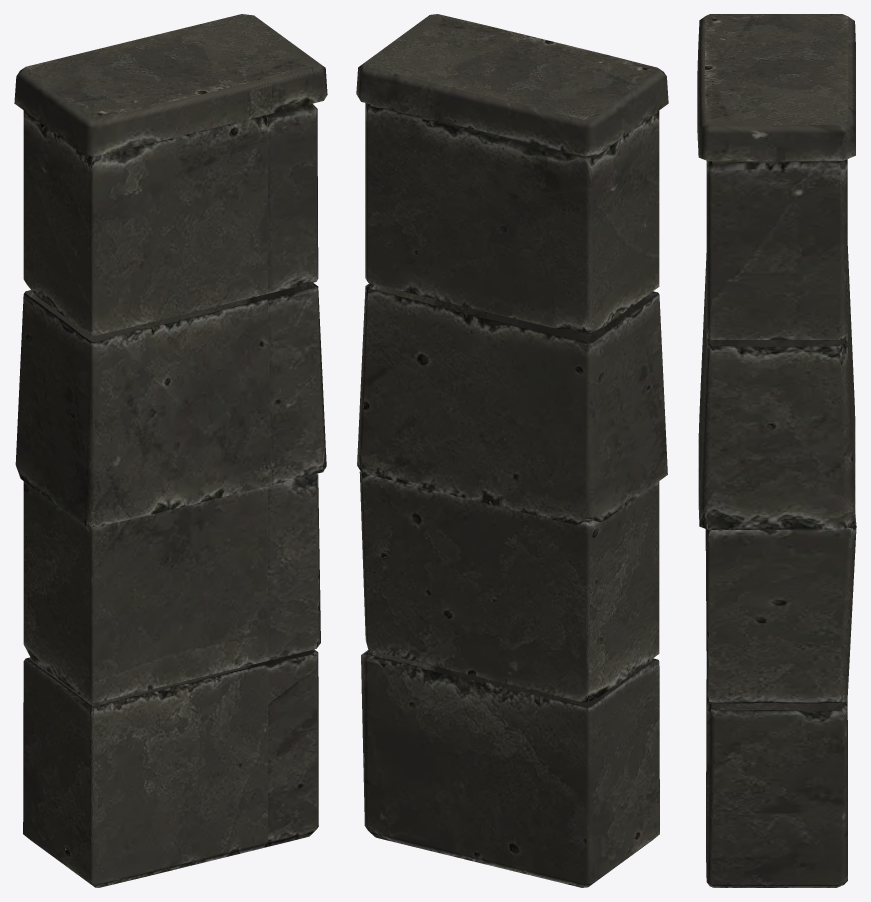
The picture shows the model from 3 angles, left to right: view 1: azimuth 30°, elevation 25°; view 2: azimuth 150°, elevation 25°; view 3: azimuth 270°, elevation 25°; orthographic projection.
Visible parts, largest first — view 1: SM_Greathall_WallEnd_6m_LOD0; view 2: SM_Greathall_WallEnd_6m_LOD0; view 3: SM_Greathall_WallEnd_6m_LOD0.
Part boxes in pixels (x1=…): SM_Greathall_WallEnd_6m_LOD0: x1=14, y1=14, x2=327, y2=887; SM_Greathall_WallEnd_6m_LOD0: x1=356, y1=14, x2=668, y2=887; SM_Greathall_WallEnd_6m_LOD0: x1=697, y1=14, x2=856, y2=887.
Size of the model in its own units: 1.99 by 6 by 1.13.
Materials: 1 (1 with a texture image).
